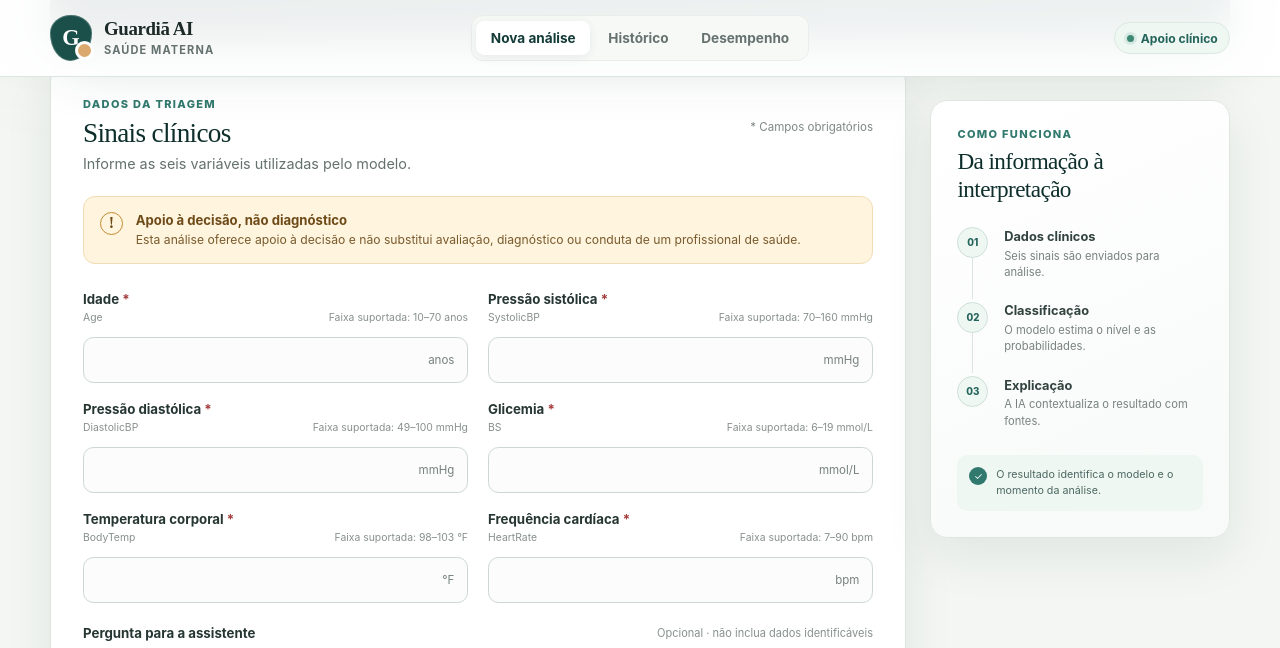
Guardiã AI › informa claramente quando a chave da LLM não está configurada
(page scrolled)
Type "30" into the number field labelled "Idade *". click: (276, 360)
box: x1=83 y1=337 x2=468 y2=383
Type "120" into the number field labelled "Pressão sistólica *". click: (680, 360)
box: x1=488 y1=337 x2=873 y2=383
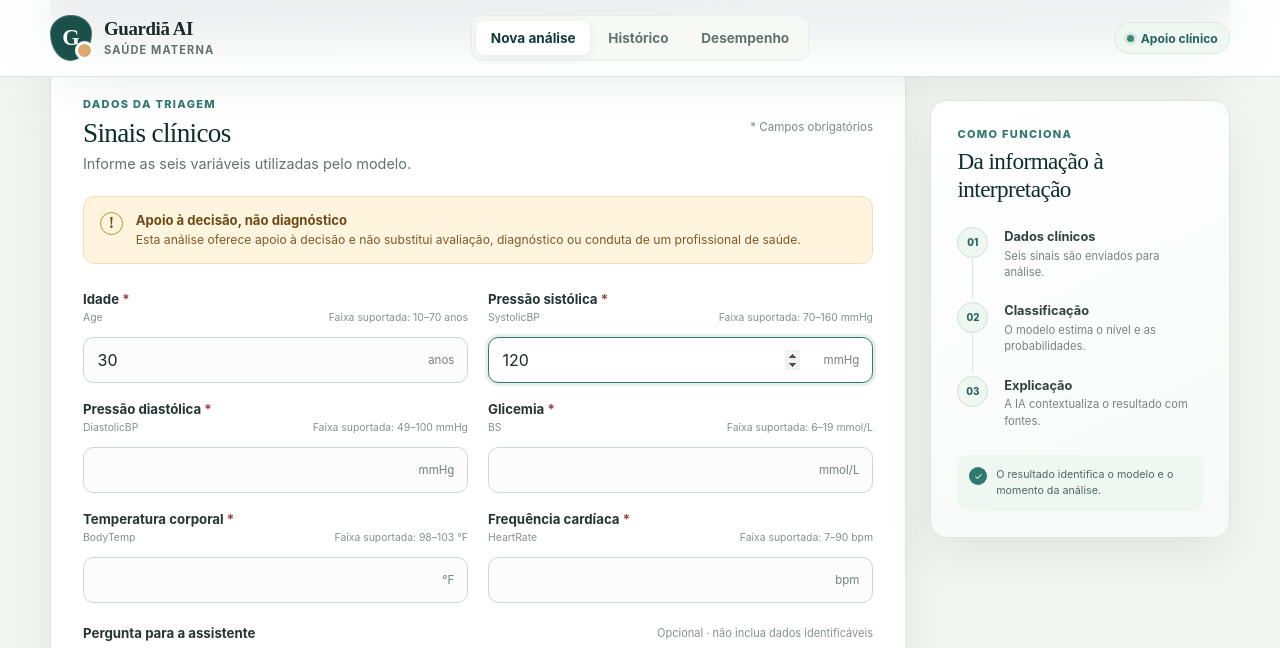
Type "80" into the number field labelled "Pressão diastólica *". click: (276, 470)
box: x1=83 y1=447 x2=468 y2=493
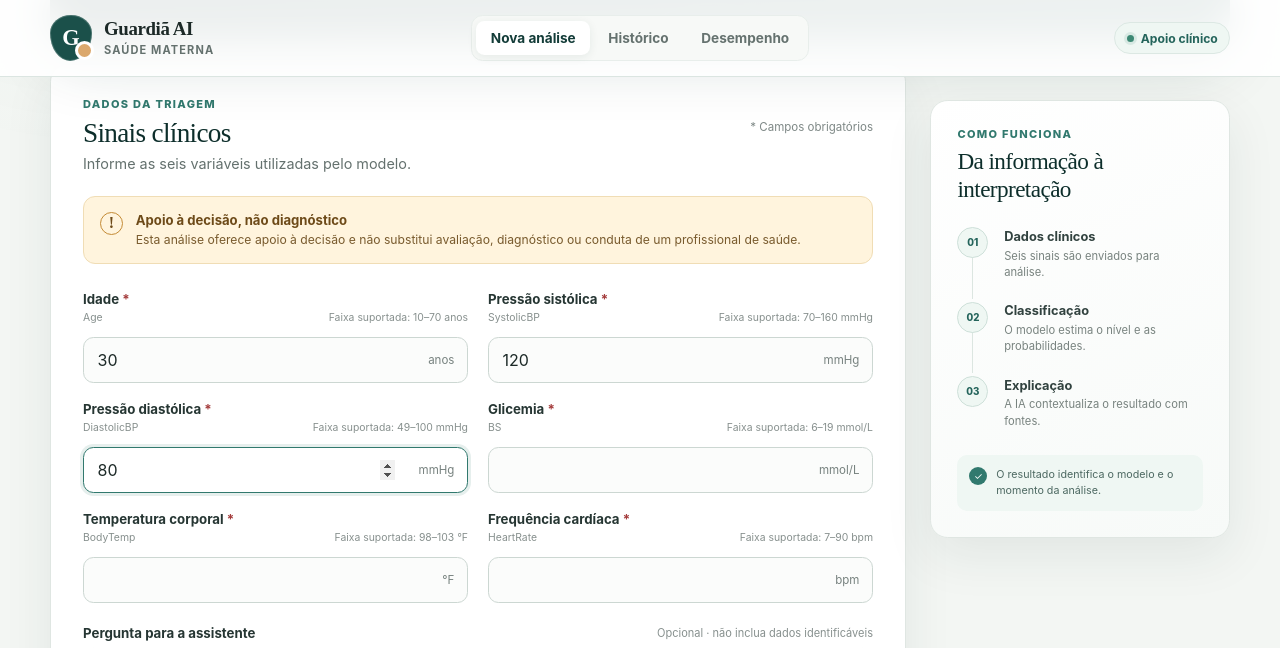
Type "7.5" into the number field labelled "Glicemia *". click: (680, 470)
box: x1=488 y1=447 x2=873 y2=493
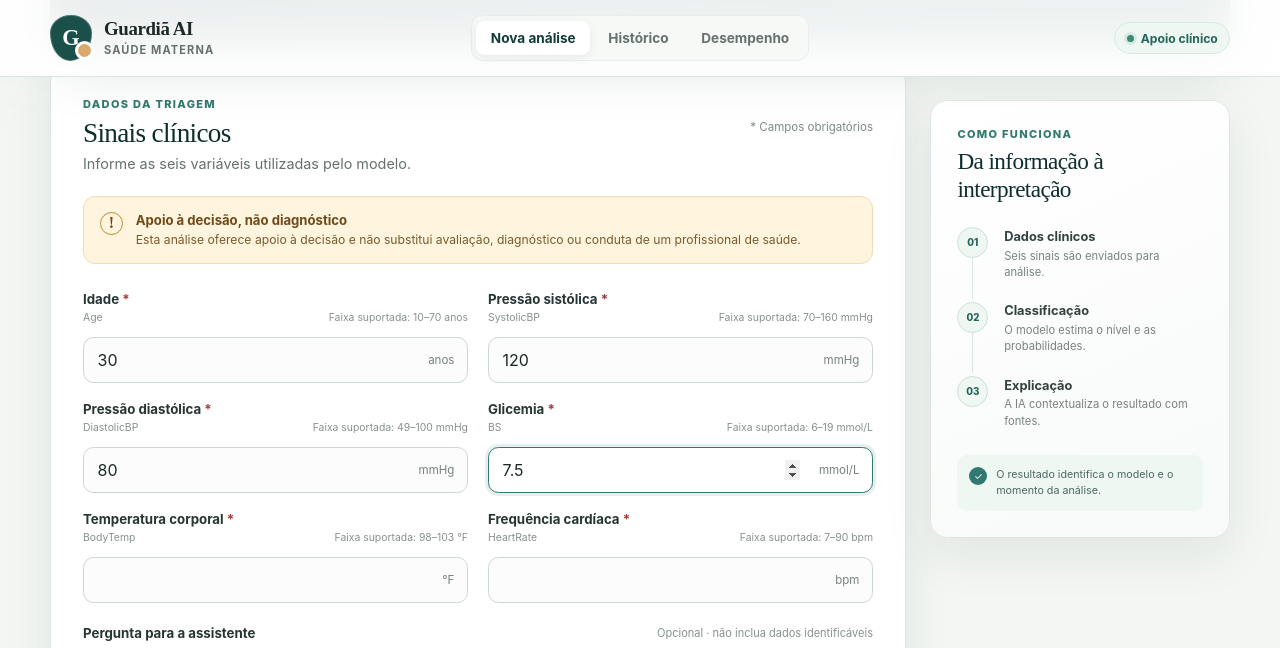
Type "98.6" into the number field labelled "Temperatura corporal *". click: (276, 580)
box: x1=83 y1=557 x2=468 y2=603
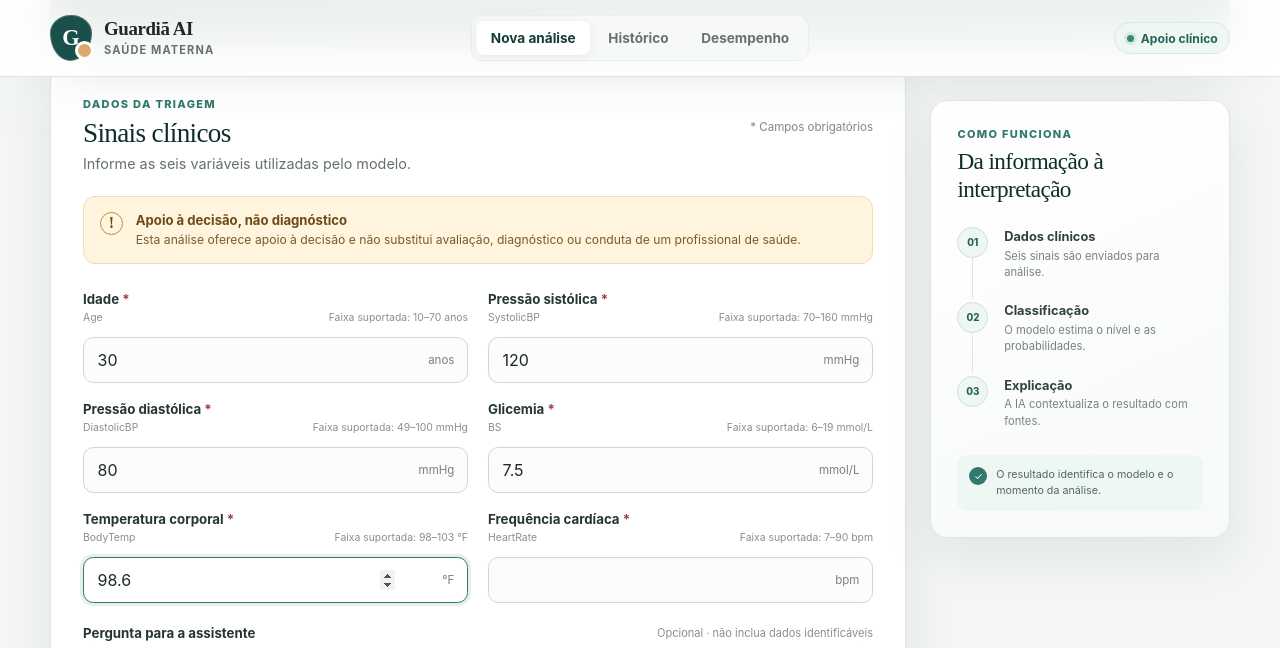
Type "76" into the number field labelled "Frequência cardíaca *". click: (680, 580)
box: x1=488 y1=557 x2=873 y2=603
(page scrolled)
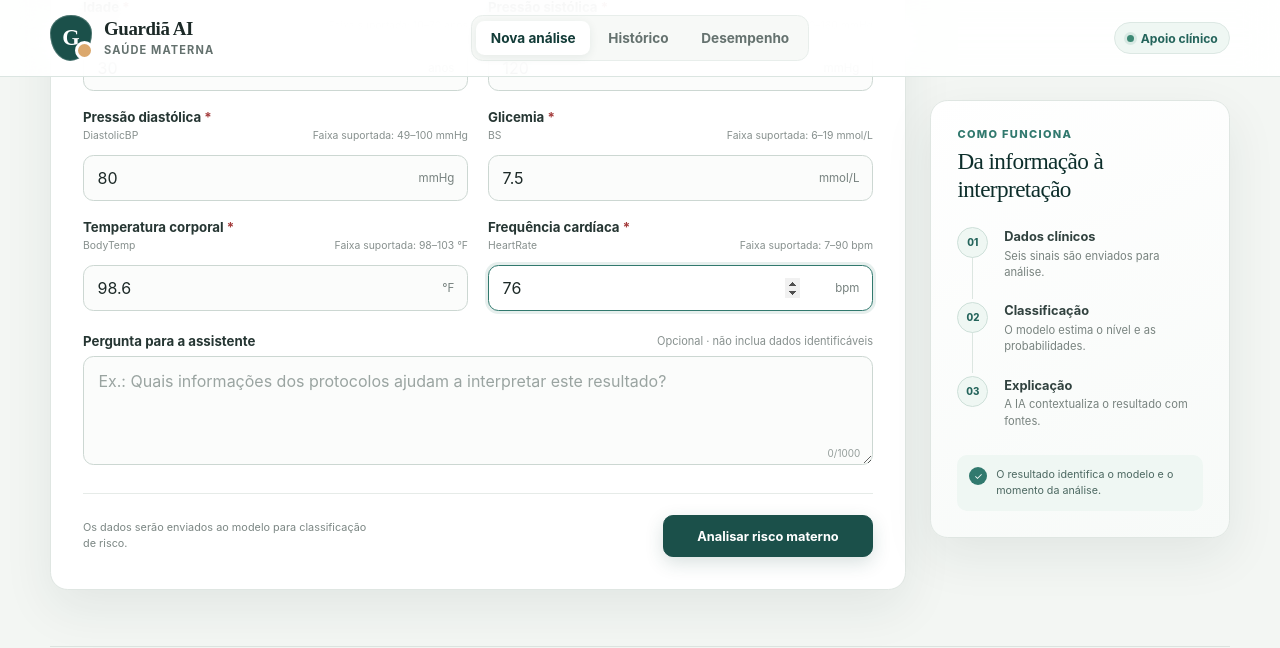
Click the button "Analisar risco materno". click: click(768, 536)
box: x1=663 y1=515 x2=873 y2=557
(page scrolled)
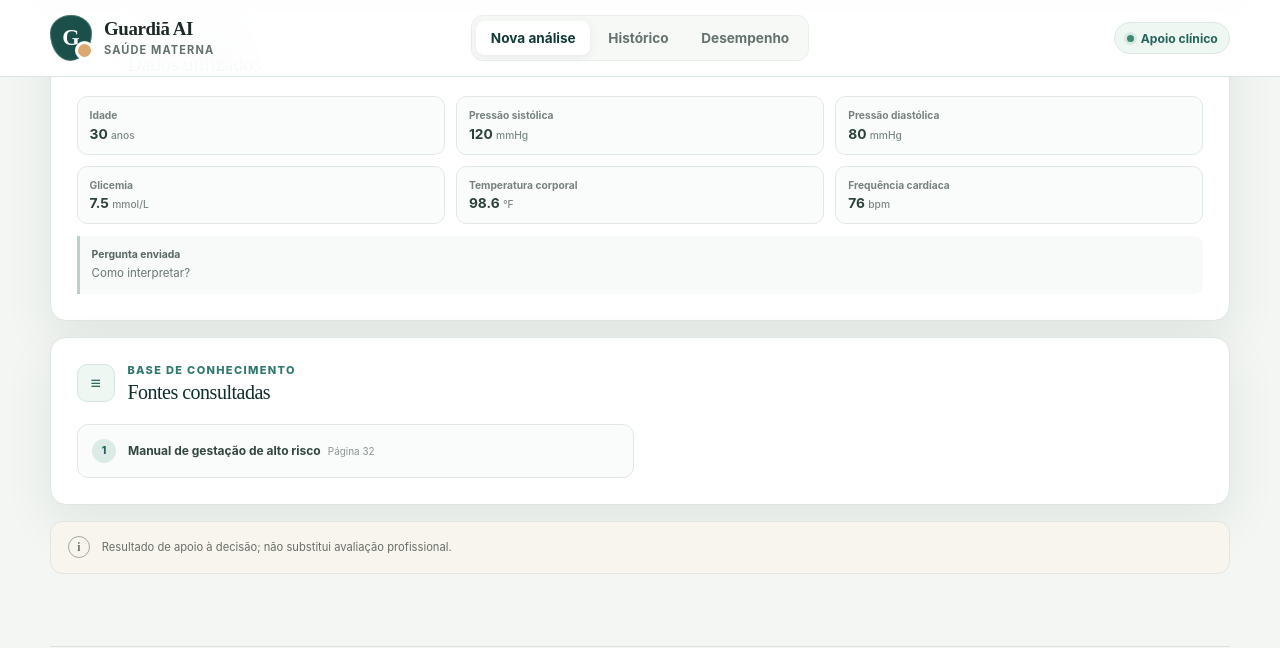
Expected: the text "Manual de gestação de alto risco" is shown, x1=128 y1=443 x2=321 y2=458
